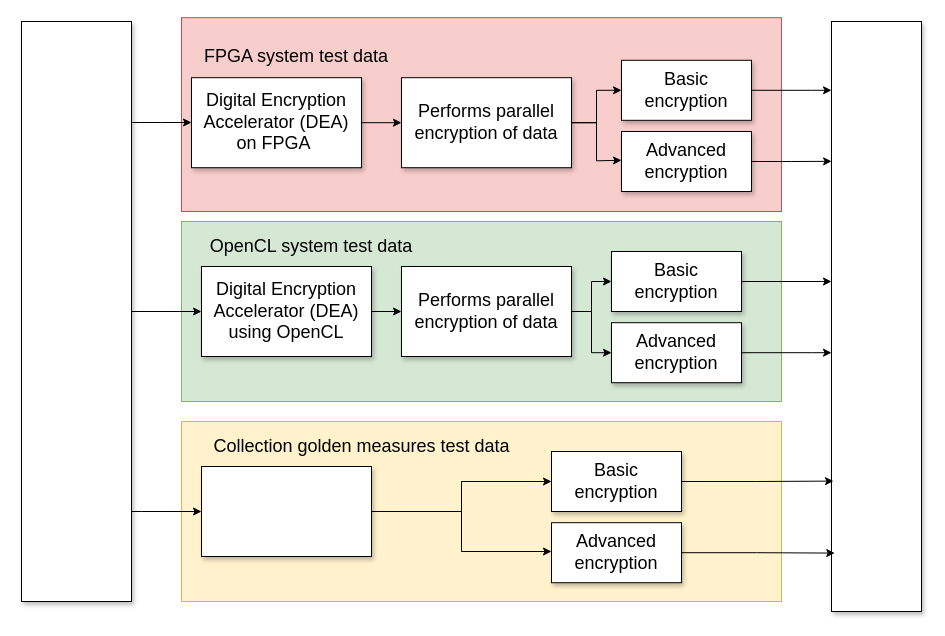
This 945x636 diagram has some shape labels left out. The shapes that lost their labels are listed below. From the top down, each one's centre as x and y in pixels, then its label:
At (77,312): "Data input (PC or other computing/ storage device)".
At (877,317): "Data output Encrypted data and time taken".
At (287,513): "Encryption using python".
